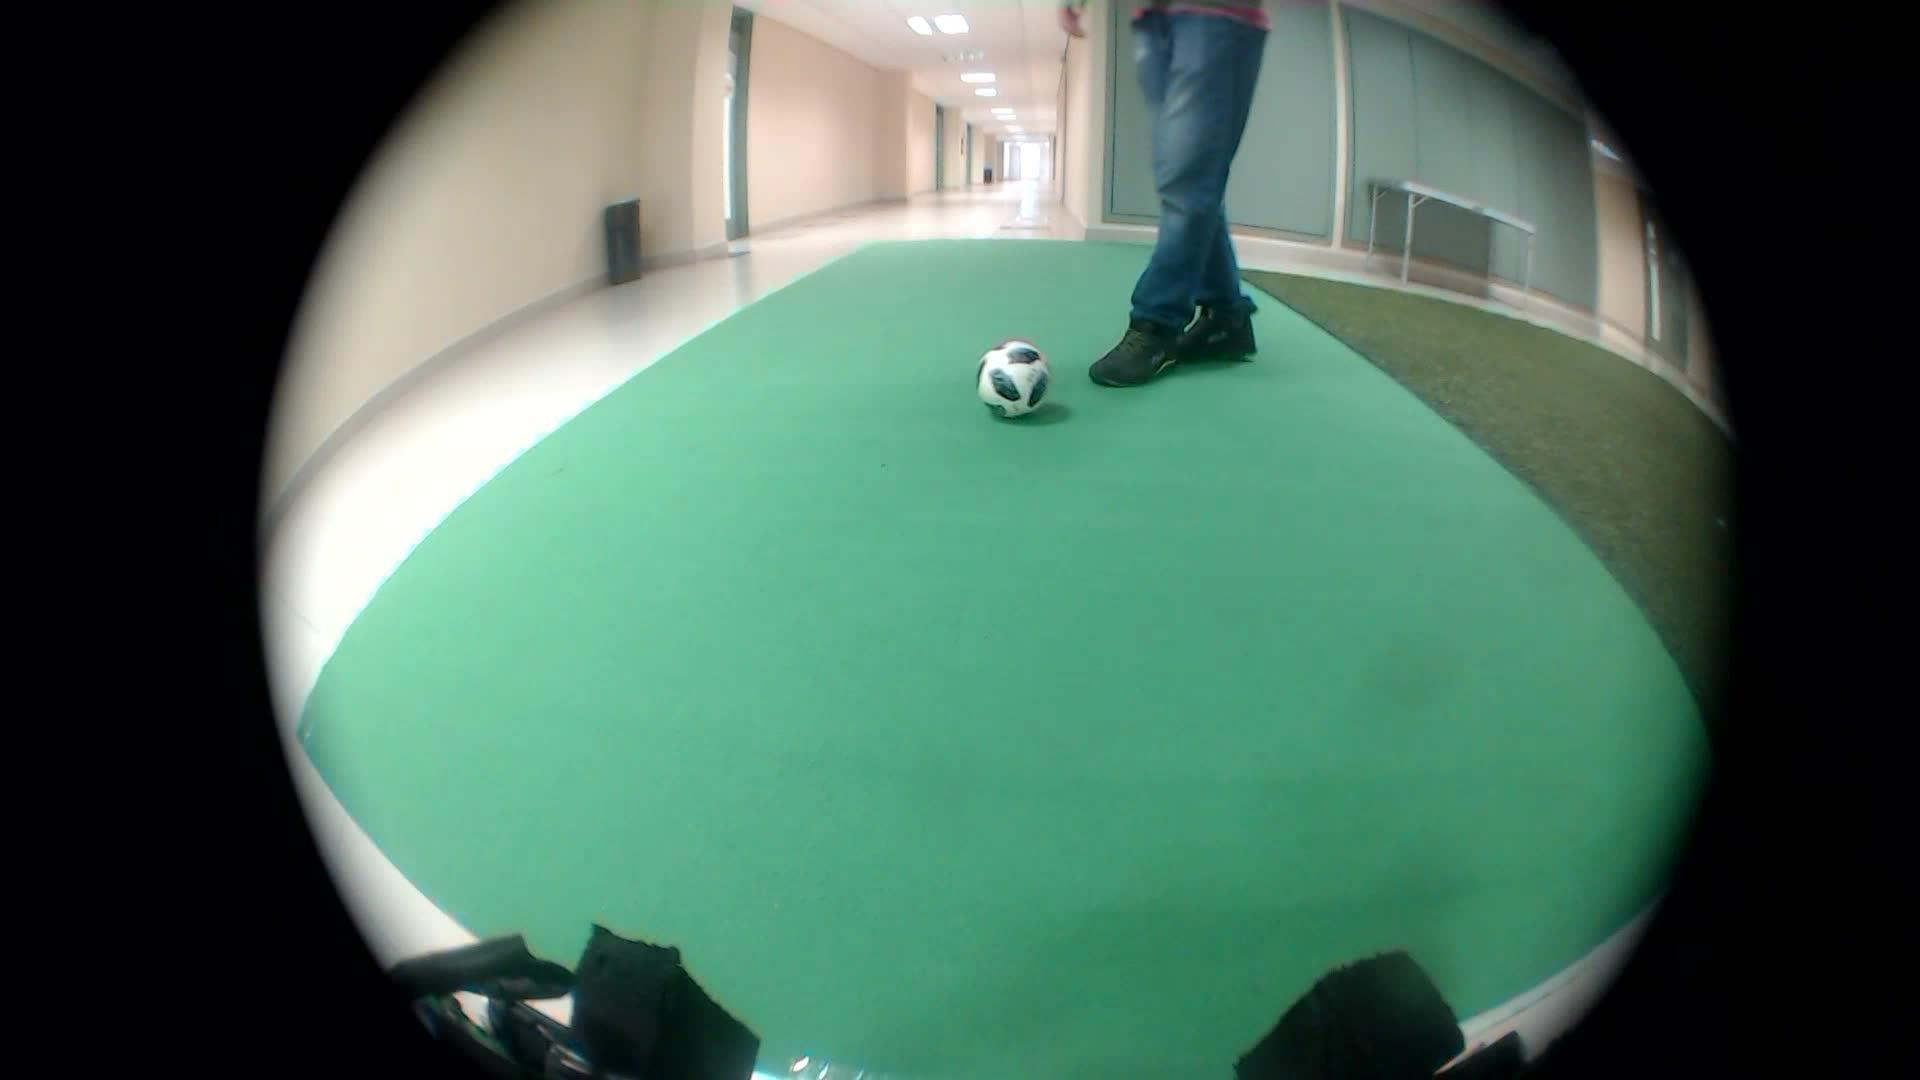ball: (961, 324, 1068, 422)
